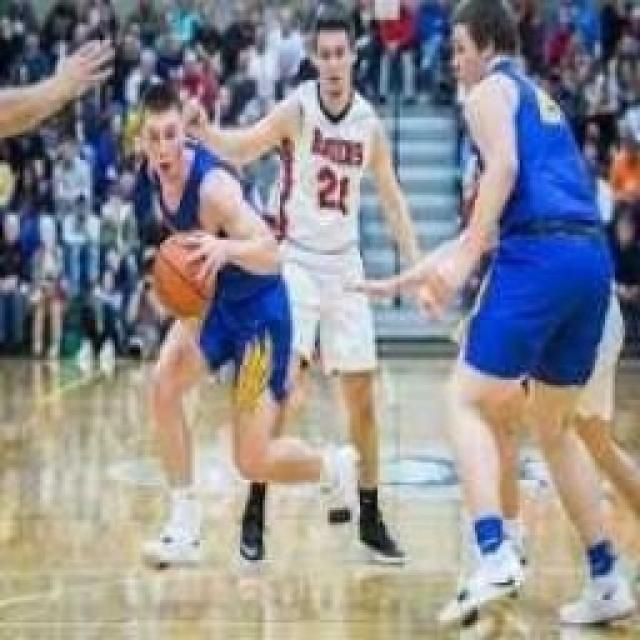rim: (148, 230, 218, 315)
